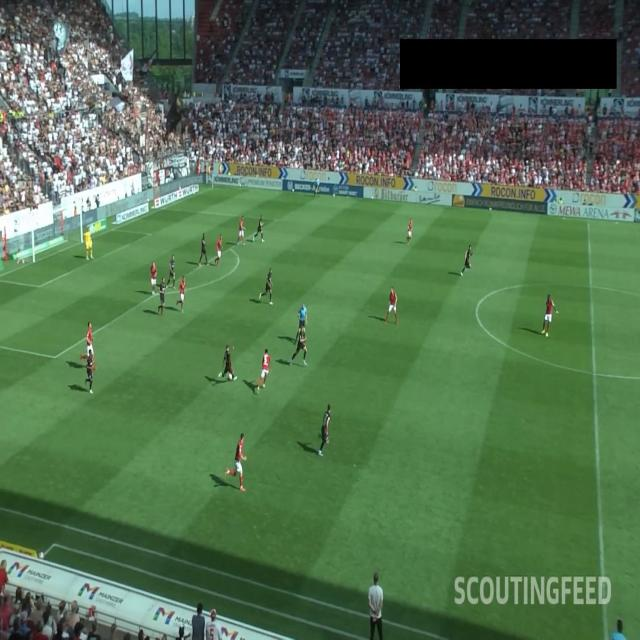ball: (228, 373, 232, 380)
